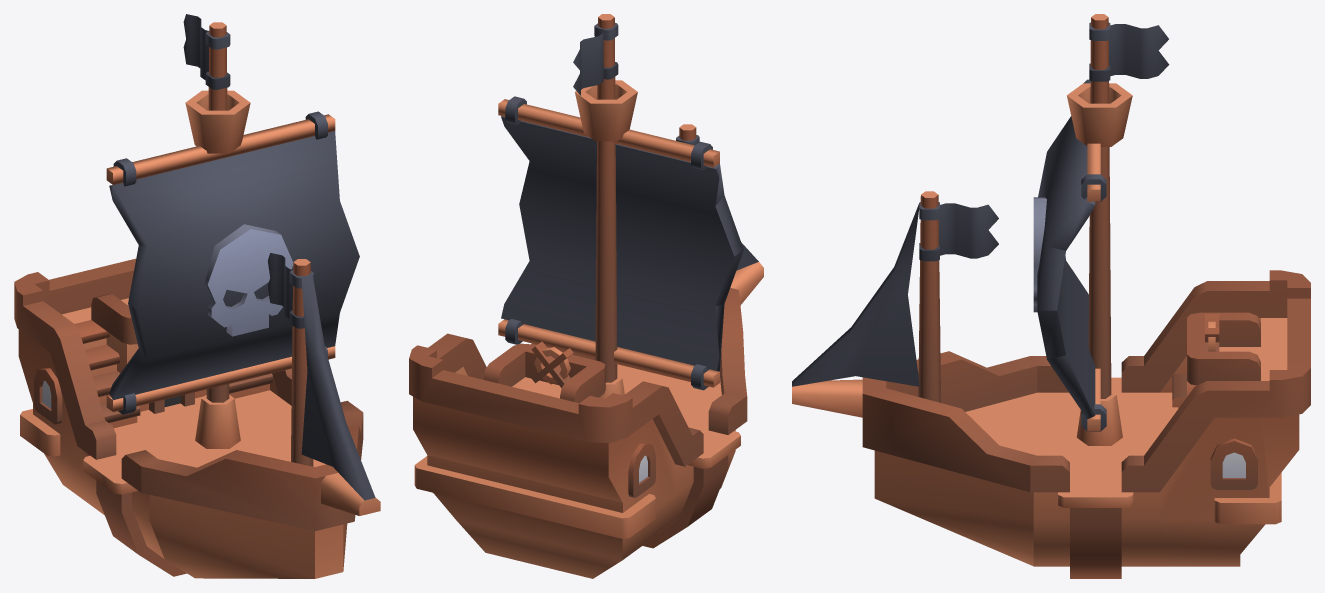
The model's file is ship_pirate_small.glb.
3 views of the same model, side by side, from view 1: azimuth 30°, elevation 25°; view 2: azimuth 150°, elevation 25°; view 3: azimuth 270°, elevation 25° (orthographic). The views are drawn at different scales.
Visible parts, largest first — view 1: ship-pirate-small, sail-a, flag-b, flag-a; view 2: ship-pirate-small, sail-a, flag-b; view 3: ship-pirate-small, sail-a, flag-a, flag-b.
Boxes of the visible parts, <box> form: ship-pirate-small: <box>14,22,380,578</box>; sail-a: <box>106,111,359,414</box>; flag-b: <box>183,14,230,89</box>; flag-a: <box>267,253,314,328</box>; ship-pirate-small: <box>409,14,763,578</box>; sail-a: <box>498,96,743,390</box>; flag-b: <box>573,23,618,95</box>; ship-pirate-small: <box>792,14,1310,578</box>; sail-a: <box>1033,79,1106,431</box>; flag-a: <box>919,202,998,261</box>; flag-b: <box>1089,22,1169,81</box>.
Size of the model in its own units: 4.8 by 9.96 by 8.8.
Materials: 1 (1 with a texture image).
